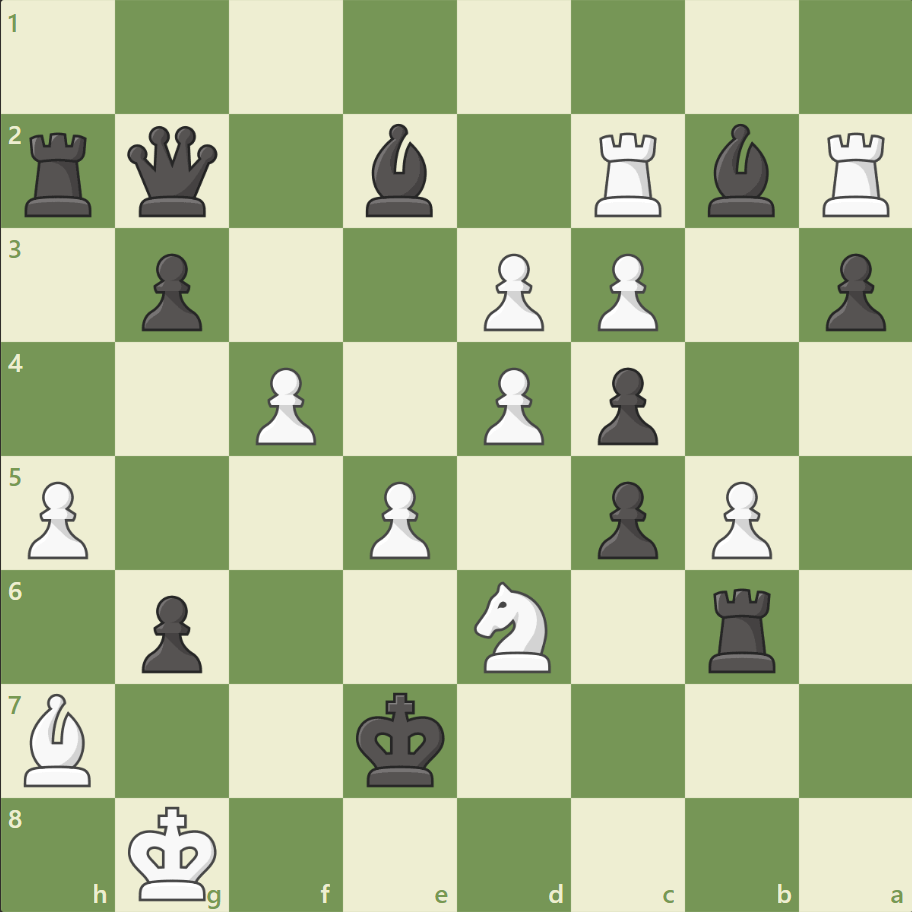B: (17, 687, 101, 790)
K: (124, 798, 224, 906)
N: (465, 575, 562, 677)
P: (701, 473, 776, 564), (20, 473, 95, 564), (474, 359, 549, 450), (247, 359, 322, 450), (474, 246, 549, 337), (361, 473, 435, 564), (588, 246, 662, 337)
R: (814, 125, 897, 222), (587, 125, 670, 222)
b: (698, 120, 782, 222), (358, 120, 442, 222)
k: (351, 685, 451, 793)
p: (133, 586, 208, 677), (133, 246, 208, 337), (588, 473, 662, 564), (588, 359, 662, 450), (815, 246, 889, 337)
q: (124, 122, 223, 222)
r: (700, 579, 783, 676), (19, 125, 102, 222)
